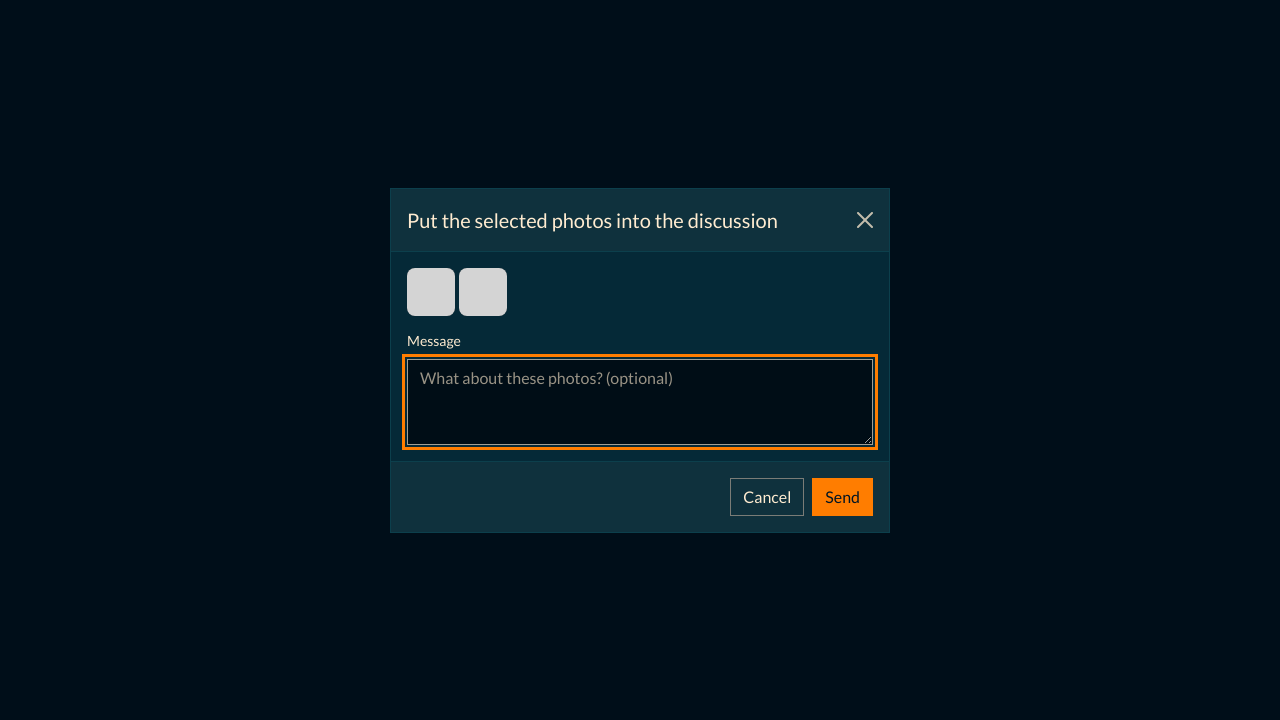
Scenario: DiscussPhotosModal › posts one plain-text comment: the message, a blank line, one uid per line
This screenshot has width=1280, height=720.
Type "These two are wrong." into the text box labelled "Message" at (640, 402), box x1=407 y1=358 x2=873 y2=444
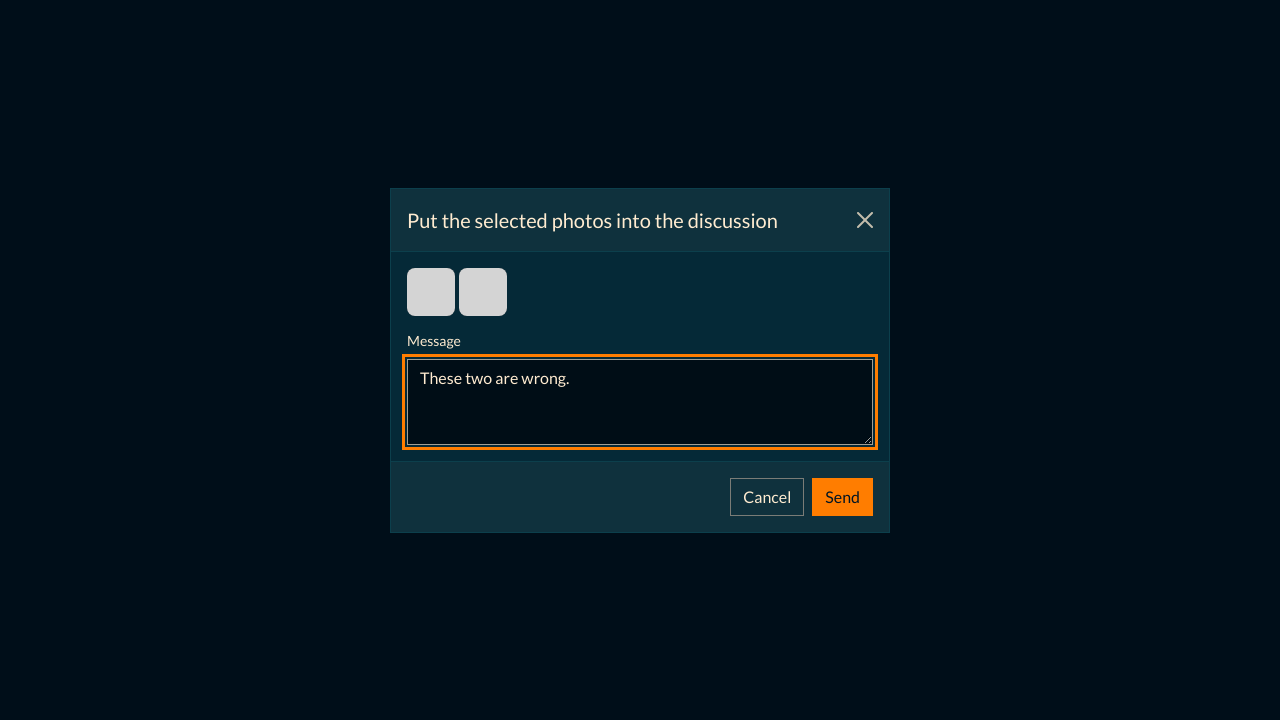
Click the button "Send" at (843, 496), box x1=812 y1=478 x2=873 y2=516
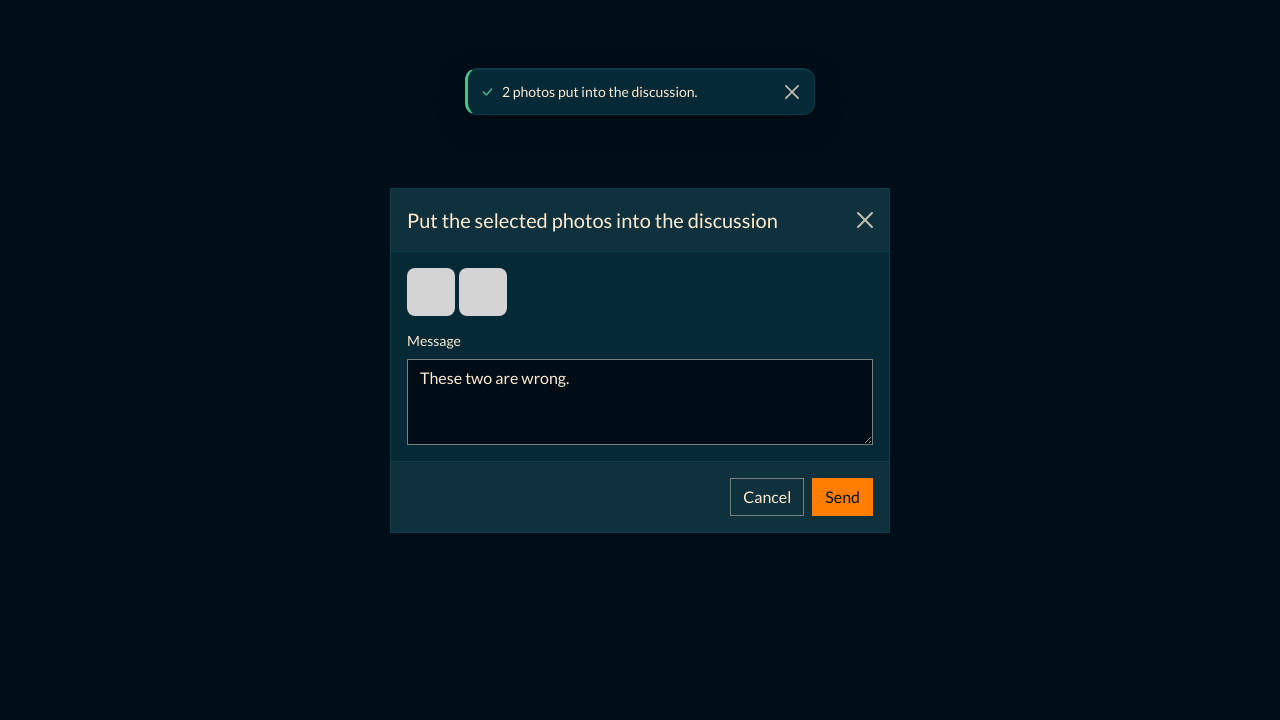
Result: the text "2 photos put into the discussion." is shown at x1=502 y1=81 x2=698 y2=102
